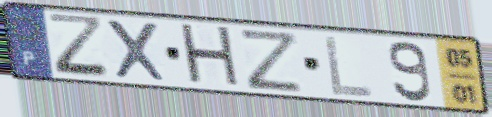9: (387, 40, 434, 103)
H: (176, 21, 244, 92)
L: (321, 33, 376, 100)
X: (102, 17, 170, 84)
Z: (45, 12, 114, 82), (237, 26, 305, 94)
